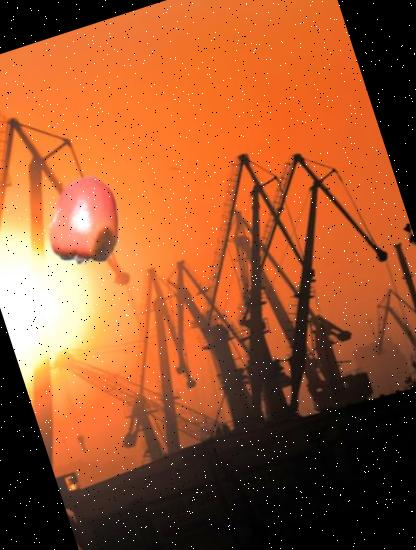Kaki: (31, 164, 142, 276)
